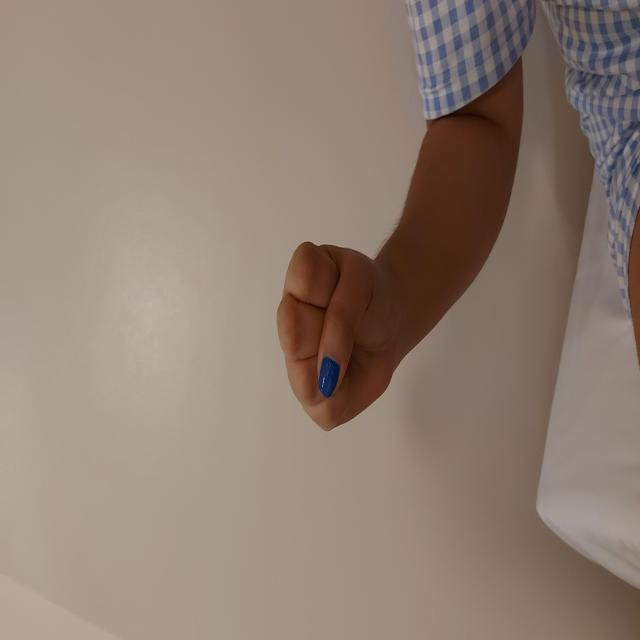S: (204, 274, 402, 396)
